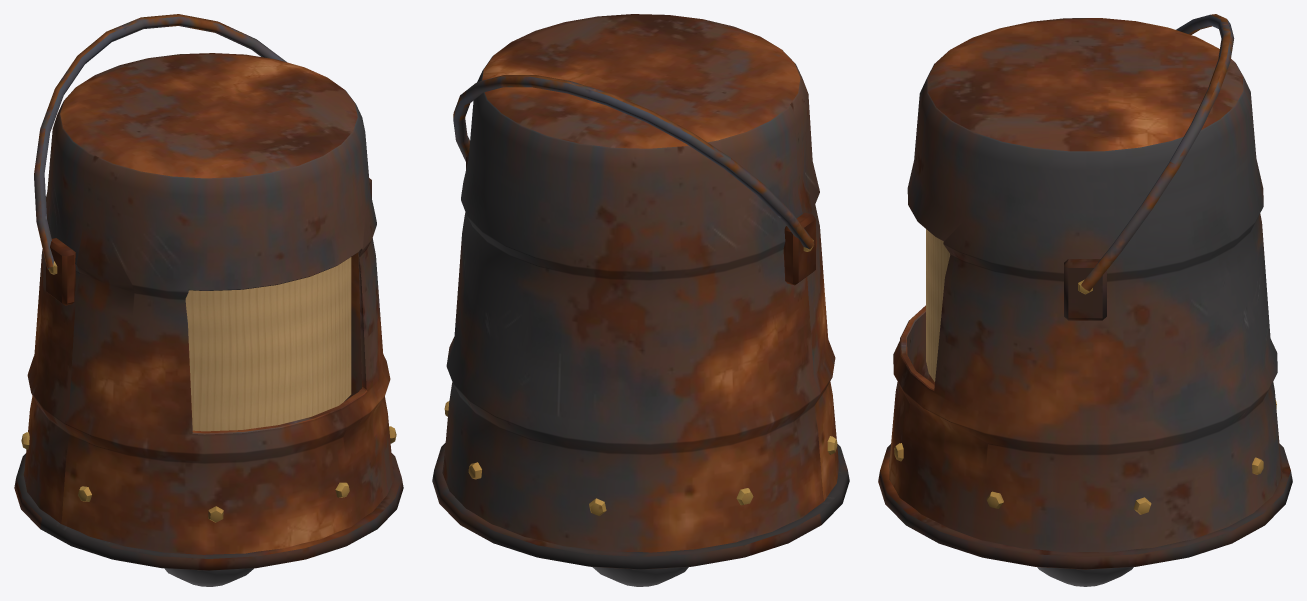
The model's file is Metal_Head.glb.
The picture shows the model from 3 angles, left to right: view 1: azimuth 30°, elevation 25°; view 2: azimuth 150°, elevation 25°; view 3: azimuth 270°, elevation 25°; orthographic projection. The views are drawn at different scales.
Visible parts, largest first — view 1: Metal_Head, FacePlate; view 2: Metal_Head; view 3: Metal_Head, FacePlate.
Part boxes in pixels (bbox=[...]): Metal_Head: bbox=[14, 14, 403, 586]; FacePlate: bbox=[185, 257, 351, 431]; Metal_Head: bbox=[432, 14, 849, 586]; Metal_Head: bbox=[878, 14, 1292, 586]; FacePlate: bbox=[926, 229, 950, 381].
Bounding box in the file's own units: 0.2914 × 0.424 × 0.2914.
Materials: 7 (6 with a texture image).
